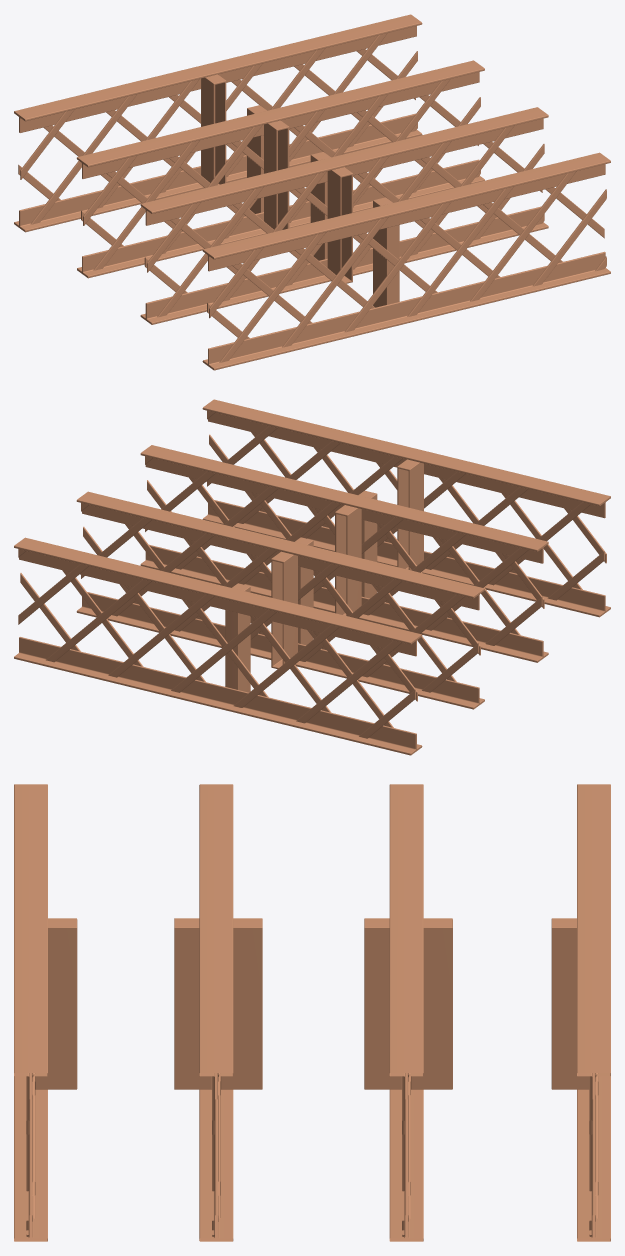
File: !PH_TopRails.fbx
3 renders of one model, top to bottom at view 1: azimuth 30°, elevation 25°; view 2: azimuth 150°, elevation 25°; view 3: azimuth 270°, elevation 25°, orthographic. The views are drawn at different scales.
Parts seen in each view (by area): view 1: TopRail_06_group52_pCube41; view 2: TopRail_06_group52_pCube41; view 3: TopRail_06_group52_pCube41.
Part boxes in pixels (<box>): TopRail_06_group52_pCube41: <box>14,14,610,370</box>; TopRail_06_group52_pCube41: <box>14,399,610,755</box>; TopRail_06_group52_pCube41: <box>14,784,610,1241</box>.
Size of the model in its own units: 12.09 by 10.56 by 3.29.
